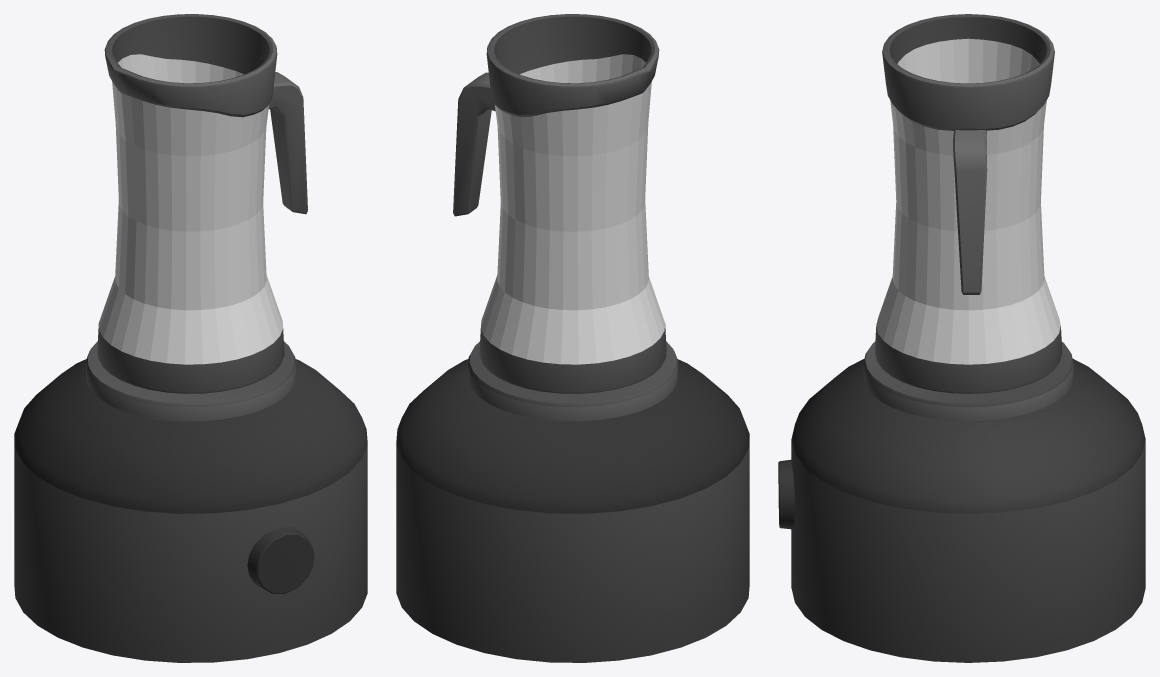
File: blender3.fbx
3 renders of one model, left to right at view 1: azimuth 30°, elevation 25°; view 2: azimuth 150°, elevation 25°; view 3: azimuth 270°, elevation 25°, orthographic.
Parts seen in each view (by area): view 1: blender3, blender3Glass; view 2: blender3, blender3Glass; view 3: blender3, blender3Glass.
Boxes of the visible parts, bbox=[...] form: blender3: bbox=[14, 14, 367, 662]; blender3Glass: bbox=[98, 54, 282, 364]; blender3: bbox=[396, 14, 749, 662]; blender3Glass: bbox=[481, 54, 665, 364]; blender3: bbox=[778, 14, 1145, 662]; blender3Glass: bbox=[876, 38, 1060, 364].
Bounding box in the file's own units: 1.04 × 1.78 × 1.08.
